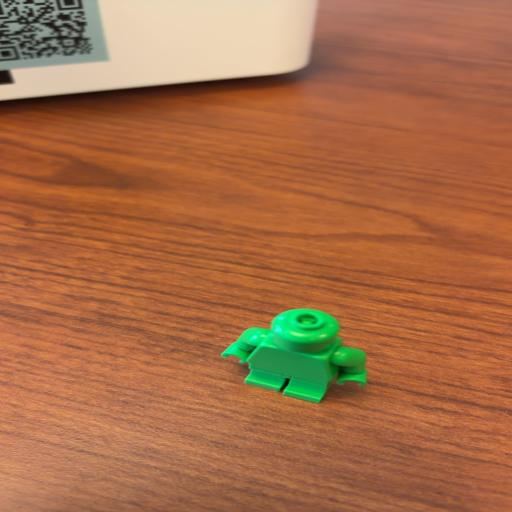UnoQ-minifig-detector: (221, 309, 367, 403)
